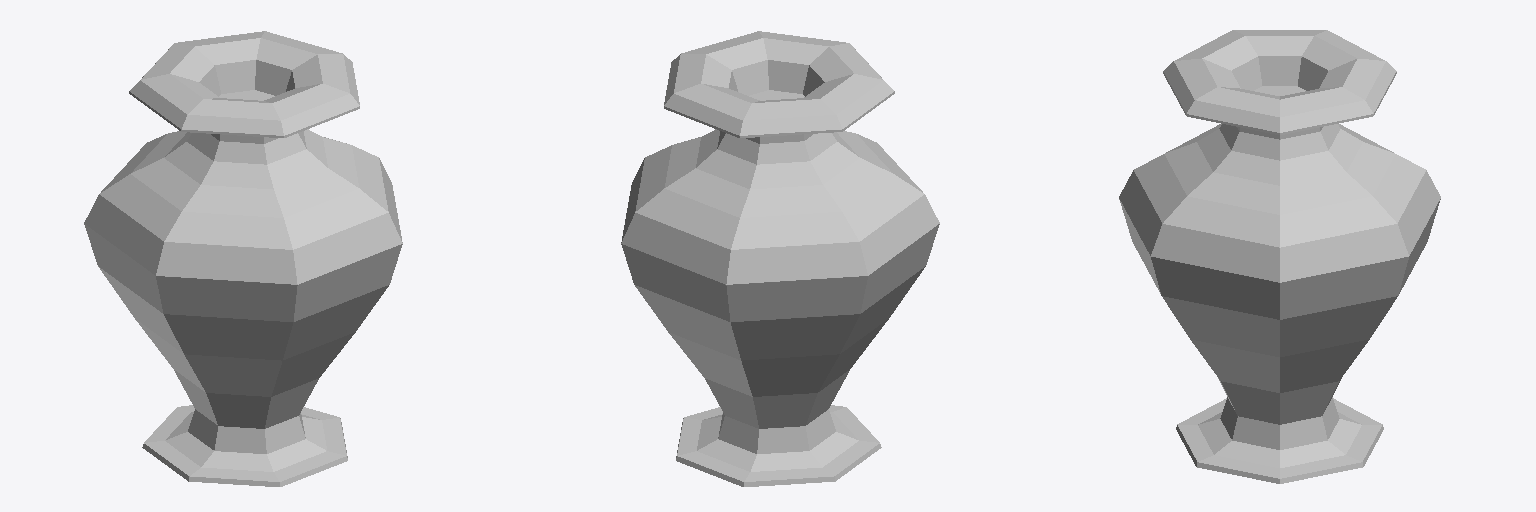
The model's file is Vase01.obj.
The picture shows the model from 3 angles: view 1: azimuth 30°, elevation 25°; view 2: azimuth 150°, elevation 25°; view 3: azimuth 270°, elevation 25°; orthographic projection.
Visible parts, largest first — view 1: Mesh_Vase01; view 2: Mesh_Vase01; view 3: Mesh_Vase01.
Boxes of the visible parts, <box> form: Mesh_Vase01: <box>84,31,402,486</box>; Mesh_Vase01: <box>621,31,939,486</box>; Mesh_Vase01: <box>1119,30,1440,483</box>.
Bounding box in the file's own units: 0.4461 × 0.5841 × 0.4575.